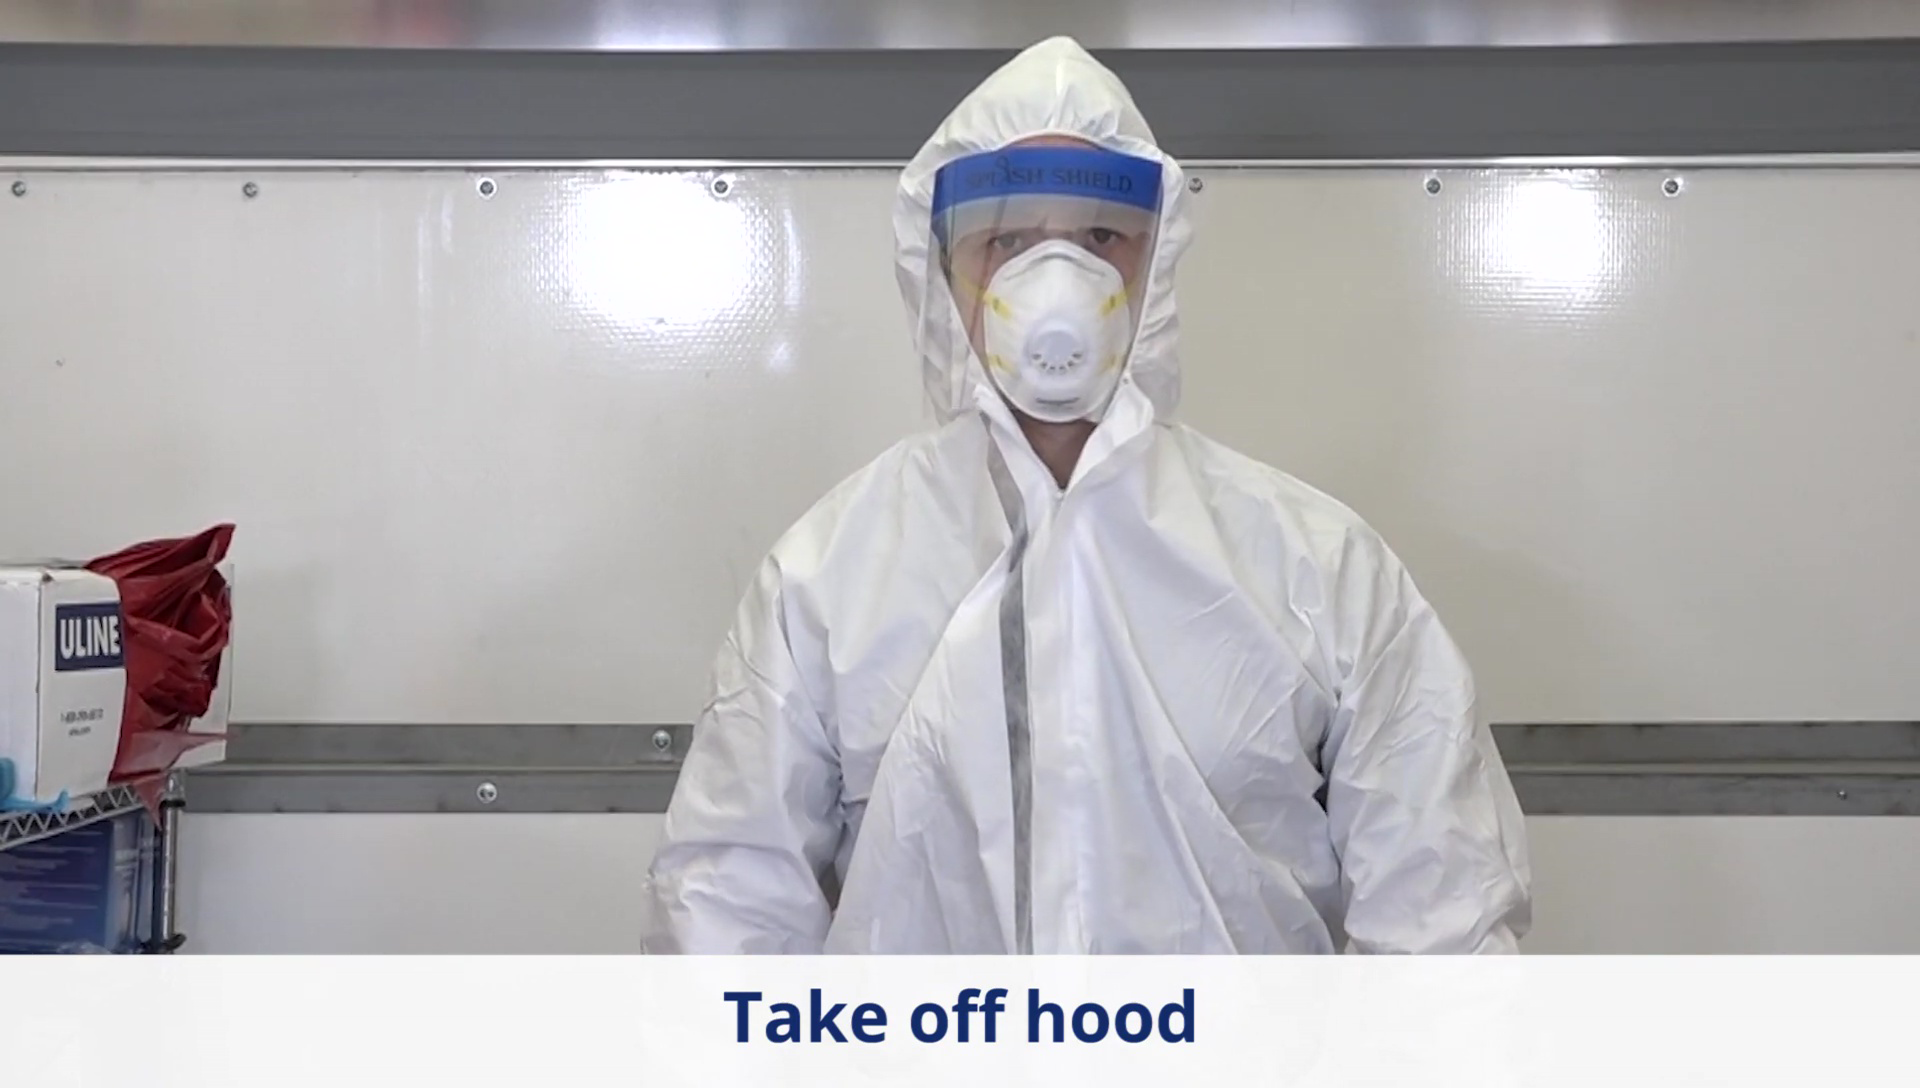Coverall: (641, 36, 1539, 951)
Face_Shield: (912, 140, 1194, 439)
with_mask: (965, 211, 1142, 424)
